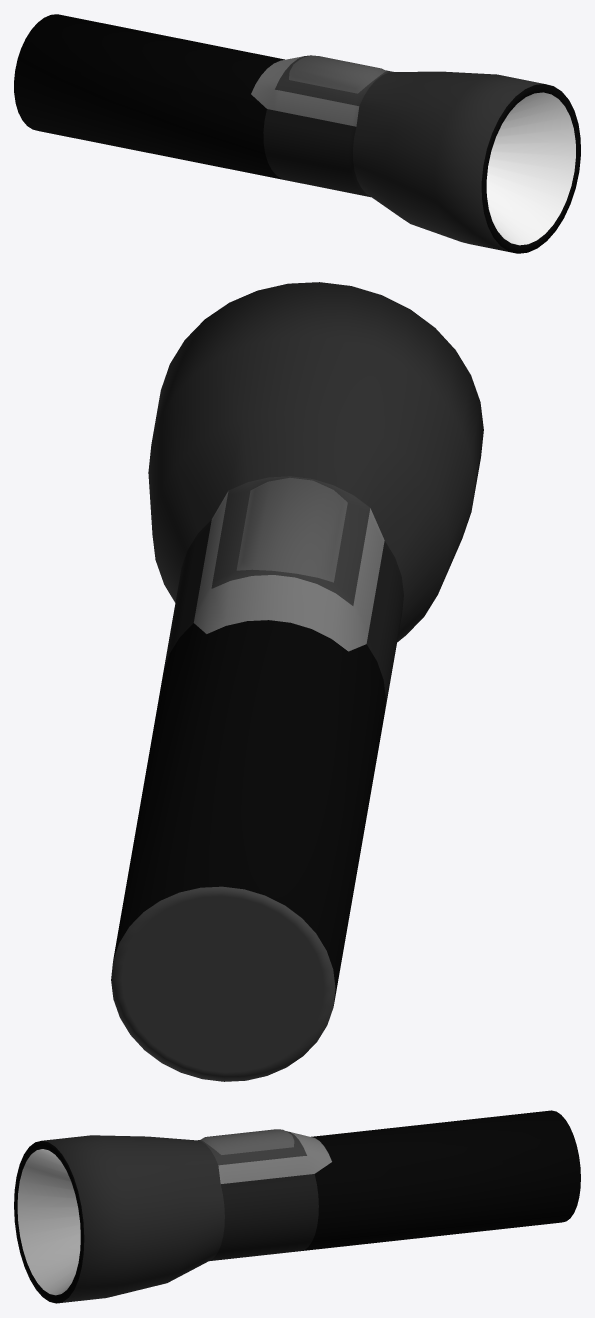
Rendered from lanterna.FBX.
The picture shows the model from 3 angles, top to bottom: view 1: azimuth 30°, elevation 25°; view 2: azimuth 150°, elevation 25°; view 3: azimuth 270°, elevation 25°; orthographic projection. The views are drawn at different scales.
Parts seen in each view (by area): view 1: Lanterna_Cylinder; view 2: Lanterna_Cylinder; view 3: Lanterna_Cylinder.
Part boxes in pixels (x1,y1,x2,y2): Lanterna_Cylinder: [14, 14, 580, 253]; Lanterna_Cylinder: [111, 282, 483, 1081]; Lanterna_Cylinder: [14, 1110, 580, 1303].
Bounding box in the file's own units: 6.42 × 3.31 × 10.06.
Materials: 1 (1 with a texture image).
